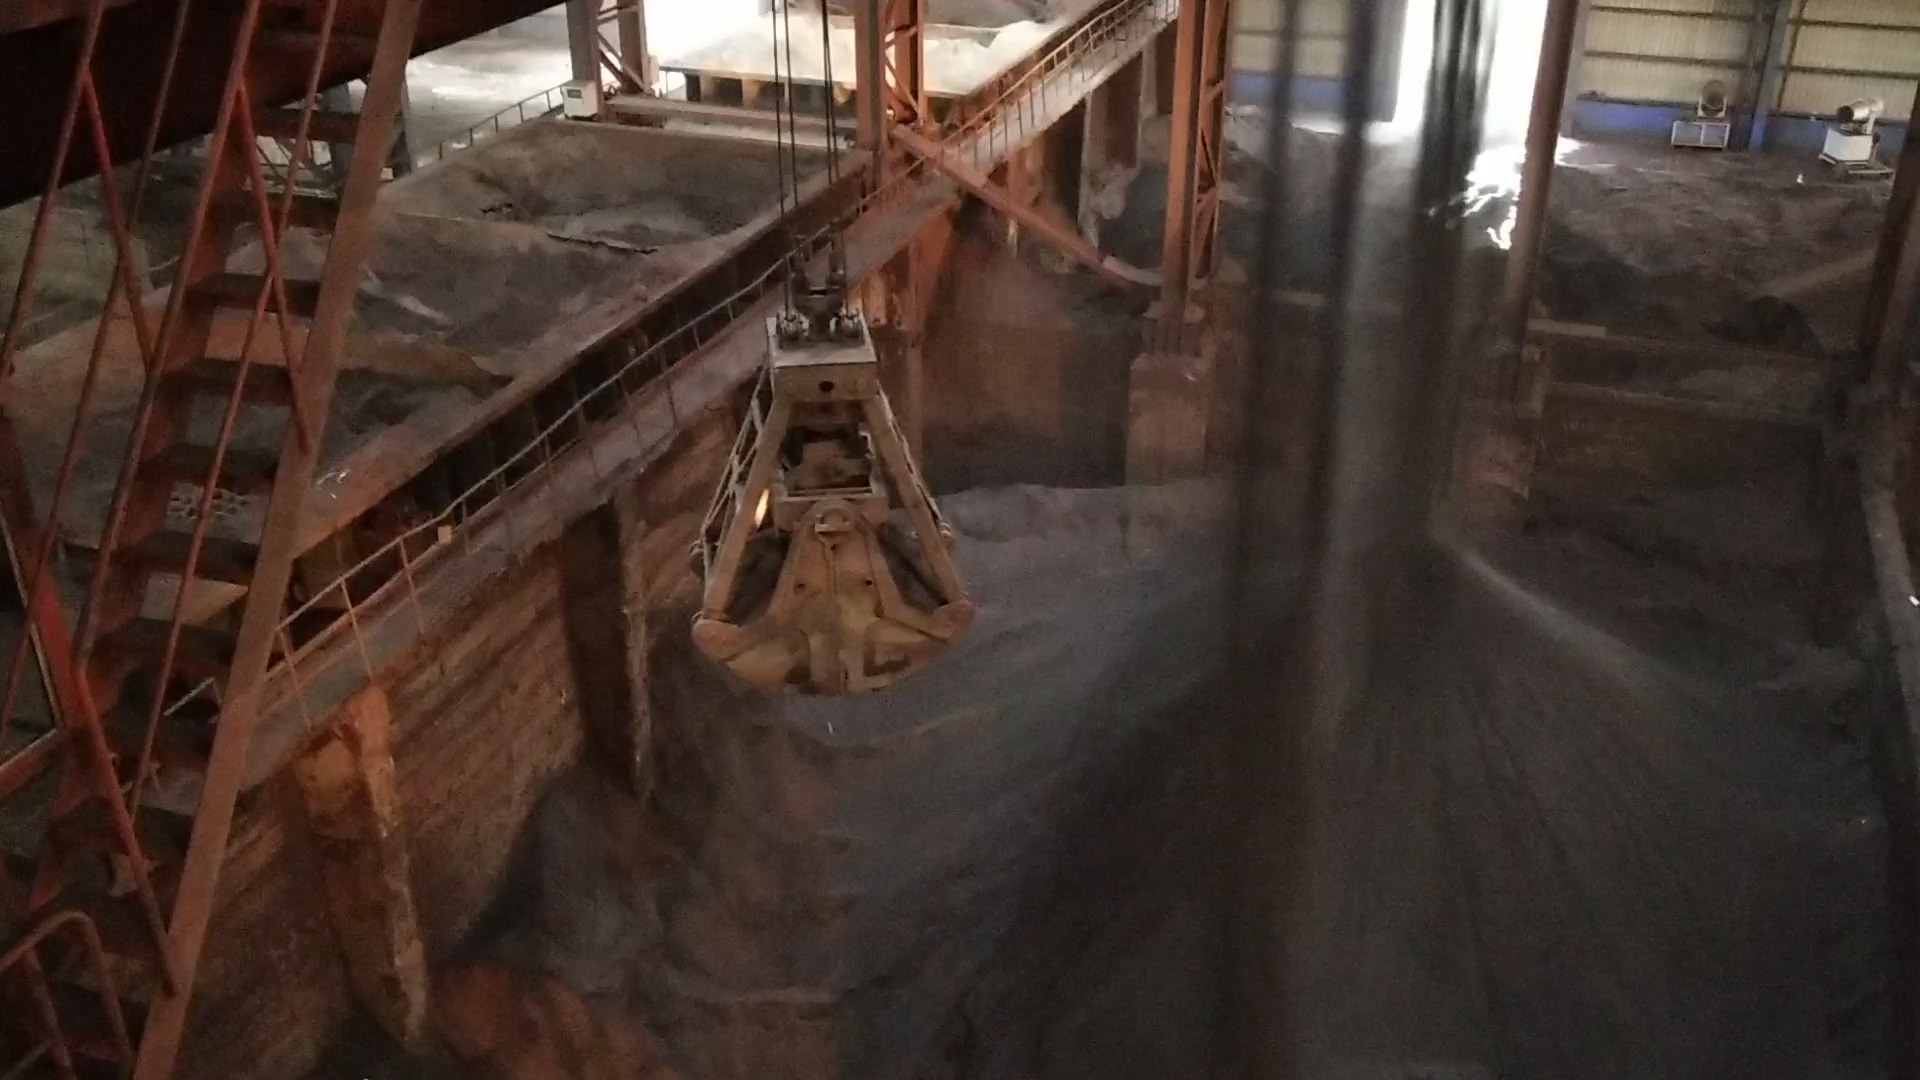grab: (675, 249, 982, 705)
